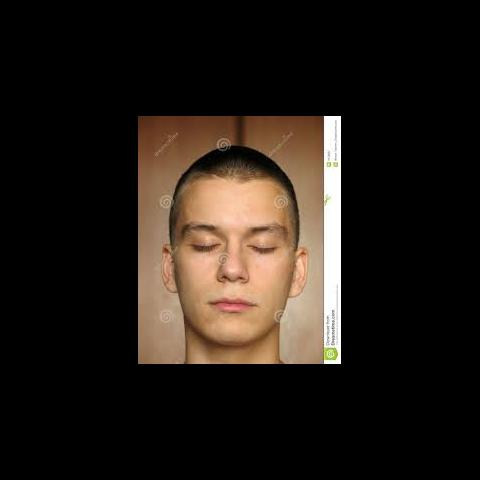closed: (178, 213, 292, 265)
